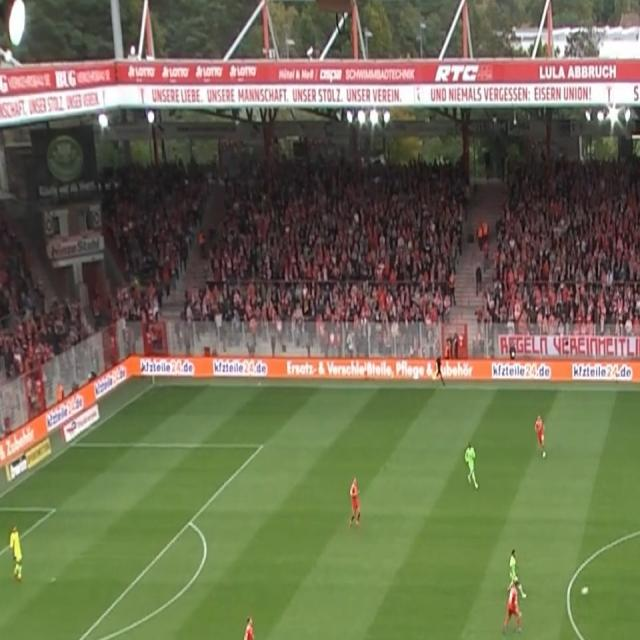ball: (581, 584, 589, 596)
